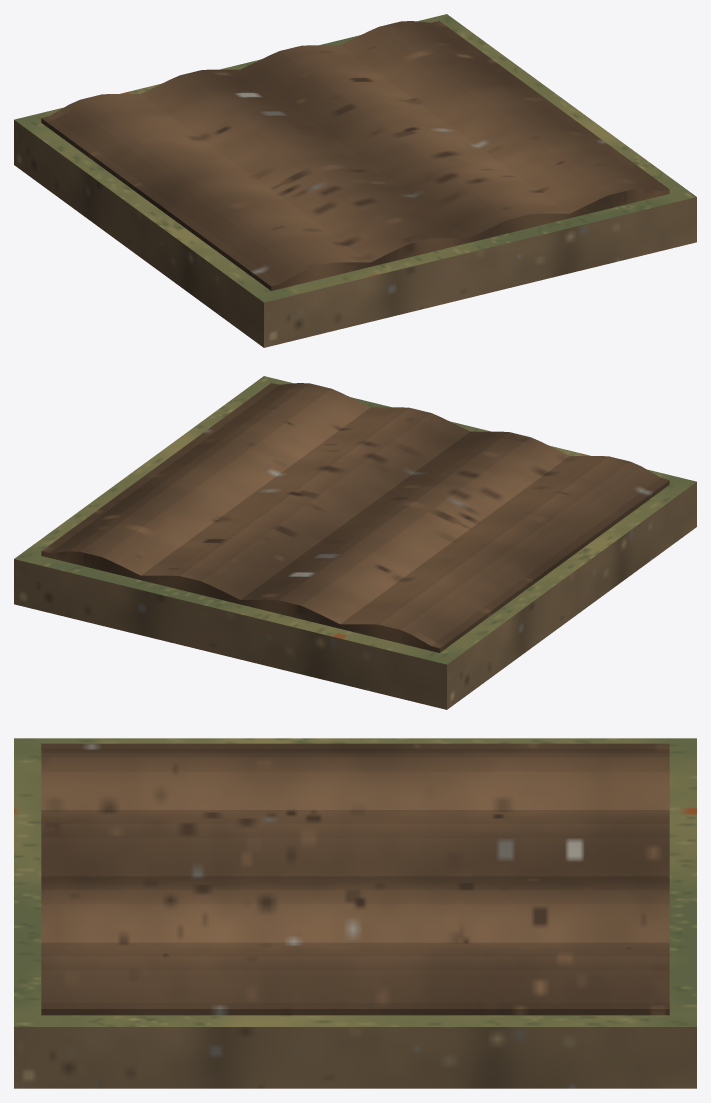
The model's file is plot_tilled.obj.
3 renders of one model, top to bottom at view 1: azimuth 30°, elevation 25°; view 2: azimuth 150°, elevation 25°; view 3: azimuth 270°, elevation 25°, orthographic. The views are drawn at different scales.
Parts seen in each view (by area): view 1: plot_tilled; view 2: plot_tilled; view 3: plot_tilled.
Part boxes in pixels (x1,y1,x2,y2): plot_tilled: (14, 14, 696, 347); plot_tilled: (14, 376, 696, 709); plot_tilled: (14, 738, 696, 1088).
Bounding box in the file's own units: 2 × 0.26 × 2.
1 material, 1 textured.
